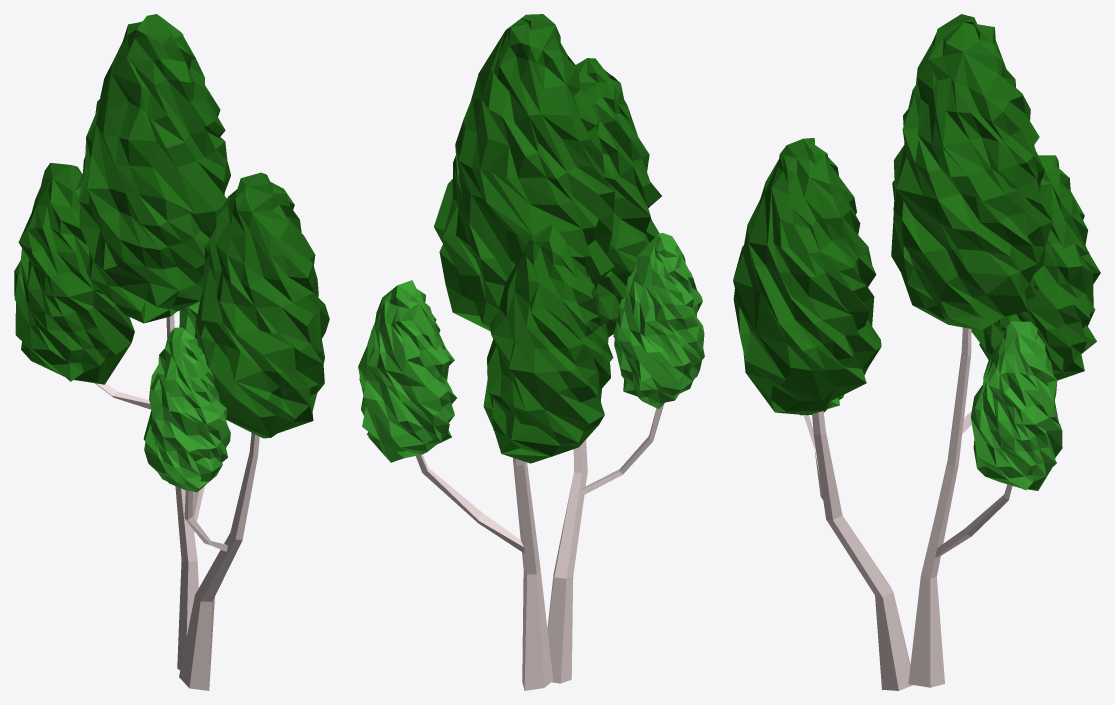
File: BirchTree_001.FBX
The picture shows the model from 3 angles, left to right: view 1: azimuth 30°, elevation 25°; view 2: azimuth 150°, elevation 25°; view 3: azimuth 270°, elevation 25°; orthographic projection. The views are drawn at different scales.
Visible parts, largest first — view 1: GeoSphere006, GeoSphere003, GeoSphere008, GeoSphere004, Trunk002, Trunk001, Cylinder002; view 2: GeoSphere006, GeoSphere008, GeoSphere005, GeoSphere004, GeoSphere003, Trunk001, Trunk002, Cylinder001, Cylinder002; view 3: GeoSphere006, GeoSphere003, GeoSphere005, GeoSphere008, Trunk001, Trunk002, Cylinder001.
Part boxes in pixels (x1=…): GeoSphere006: x1=78, y1=14, x2=230, y2=323; GeoSphere003: x1=195, y1=172, x2=329, y2=438; GeoSphere008: x1=14, y1=163, x2=134, y2=384; GeoSphere004: x1=143, y1=327, x2=230, y2=492; Trunk002: x1=179, y1=433, x2=259, y2=690; Trunk001: x1=166, y1=314, x2=198, y2=669; Cylinder002: x1=184, y1=490, x2=227, y2=551; GeoSphere006: x1=434, y1=14, x2=614, y2=331; GeoSphere008: x1=483, y1=224, x2=613, y2=463; GeoSphere005: x1=358, y1=280, x2=456, y2=462; GeoSphere004: x1=613, y1=233, x2=704, y2=408; GeoSphere003: x1=576, y1=58, x2=661, y2=337; Trunk001: x1=513, y1=458, x2=553, y2=690; Trunk002: x1=547, y1=439, x2=587, y2=683; Cylinder001: x1=416, y1=454, x2=524, y2=553; Cylinder002: x1=579, y1=404, x2=663, y2=496; GeoSphere006: x1=891, y1=14, x2=1052, y2=330; GeoSphere003: x1=733, y1=138, x2=881, y2=415; GeoSphere005: x1=970, y1=321, x2=1062, y2=490; GeoSphere008: x1=971, y1=155, x2=1100, y2=380; Trunk001: x1=908, y1=327, x2=971, y2=687; Trunk002: x1=812, y1=411, x2=912, y2=690; Cylinder001: x1=935, y1=484, x2=1012, y2=557.
Bounding box in the file's own units: 30.64 × 82.49 × 41.43.
